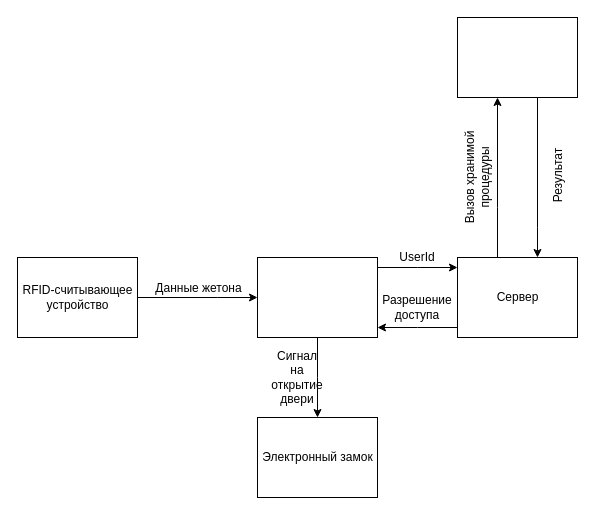
Image size: 595x515. Some labels were removed from this diagram. Here are the shapes that lost their labels. From the top down, the centre of each, then its label:
At pixel 517 57: "База данных".
At pixel 317 297: "Пульт управления доступом".
